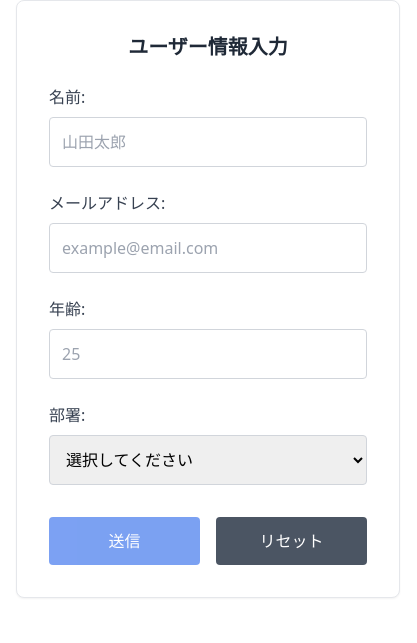
it: UserForm コンポーネント › バリデーション › 名前のバリデーション › 名前が空の場合エラーメッセージが表示される
Type "a" into the field with test id "name-input" at point(208, 142), box [49, 117, 367, 167]
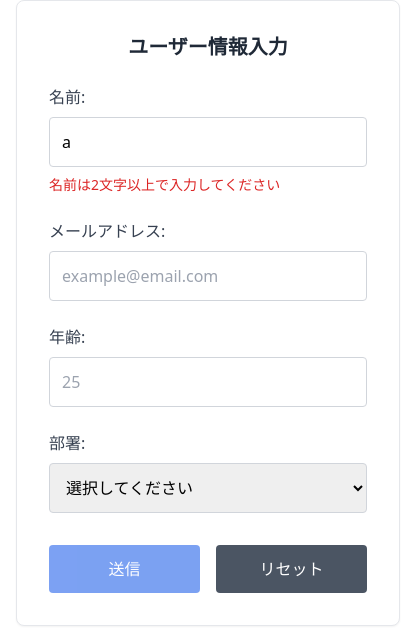
Clear the field with test id "name-input" at point(208, 142), box [49, 117, 367, 167]
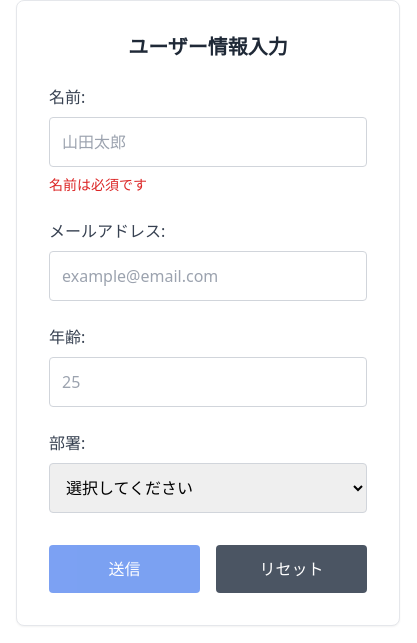
Result: the text with test id "name-error" reads "名前は必須です" at [49, 175, 147, 194]
